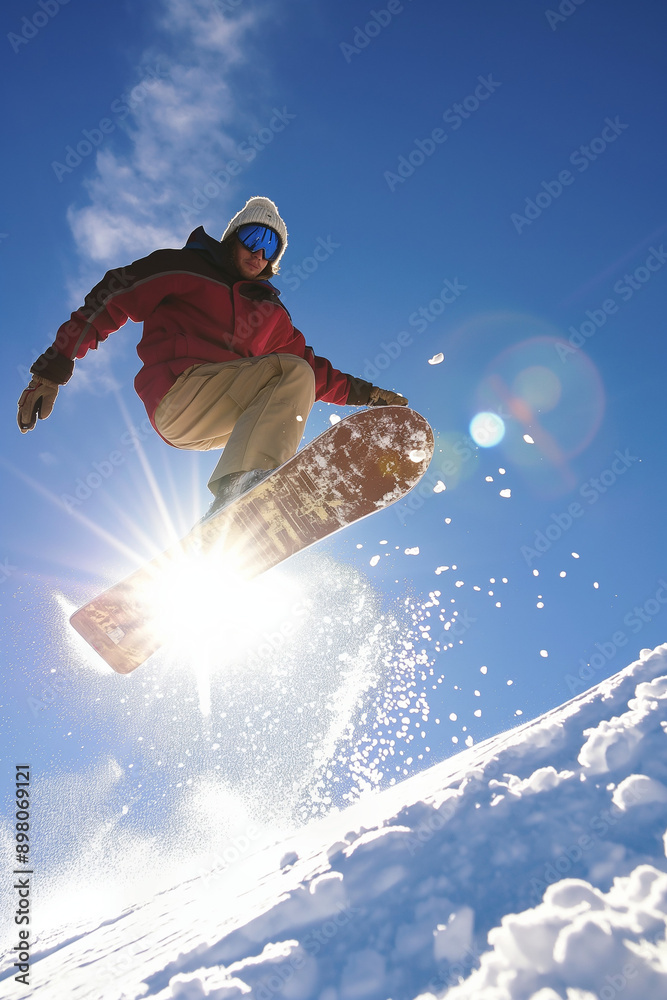snowboarder: (15, 190, 437, 673)
